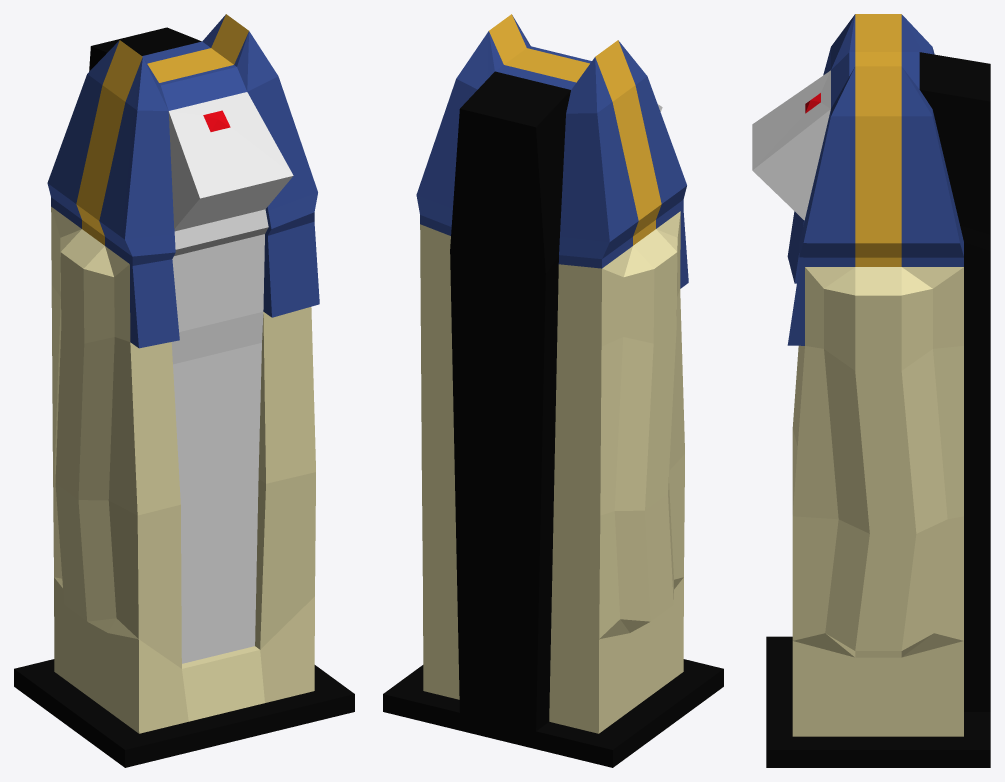
File: Cat_Statue.fbx
The picture shows the model from 3 angles, left to right: view 1: azimuth 30°, elevation 25°; view 2: azimuth 150°, elevation 25°; view 3: azimuth 270°, elevation 25°; orthographic projection.
Visible parts, largest first — view 1: Cat_Statue; view 2: Cat_Statue; view 3: Cat_Statue.
Part boxes in pixels (x1,y1,x2,y2): Cat_Statue: (14, 14, 354, 767); Cat_Statue: (383, 14, 723, 767); Cat_Statue: (752, 14, 990, 767).
Size of the model in its own units: 16.55 by 45.7 by 14.71.
